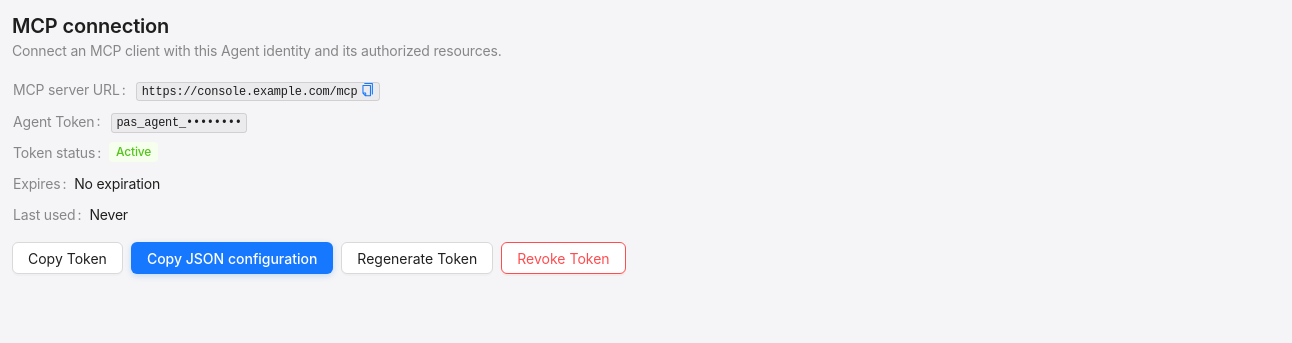
Agent MCP connection panel › does not copy when the Token cannot be revealed
Click the button "Copy Token" at (67, 258), box [12,242,123,274]
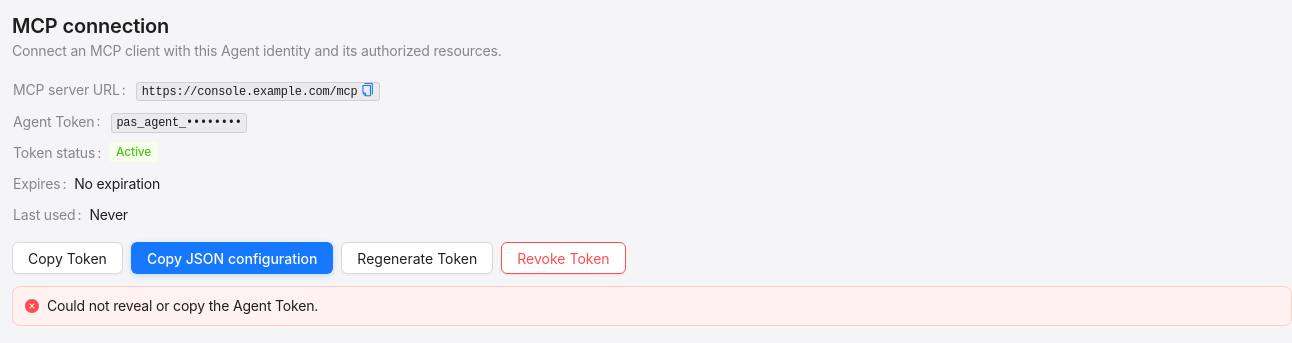
Now the message shows "Could not reveal or copy", box [47,297,318,314]
